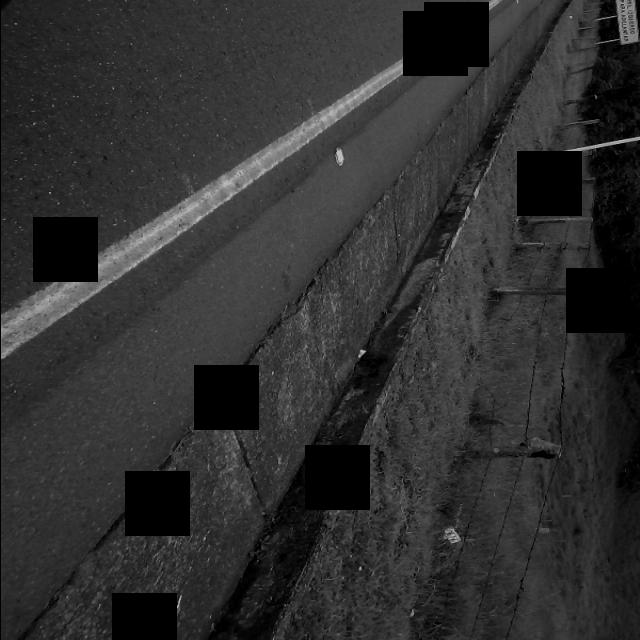DITCH: (3, 1, 572, 639)
